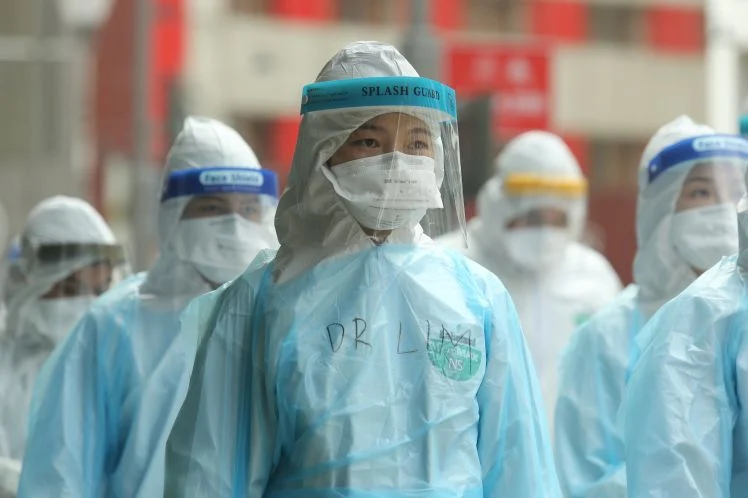Coverall: (228, 40, 524, 498), (76, 115, 274, 498), (467, 128, 627, 403)
with_mask: (330, 124, 444, 235), (179, 199, 276, 287), (664, 176, 744, 271), (496, 203, 574, 276)
